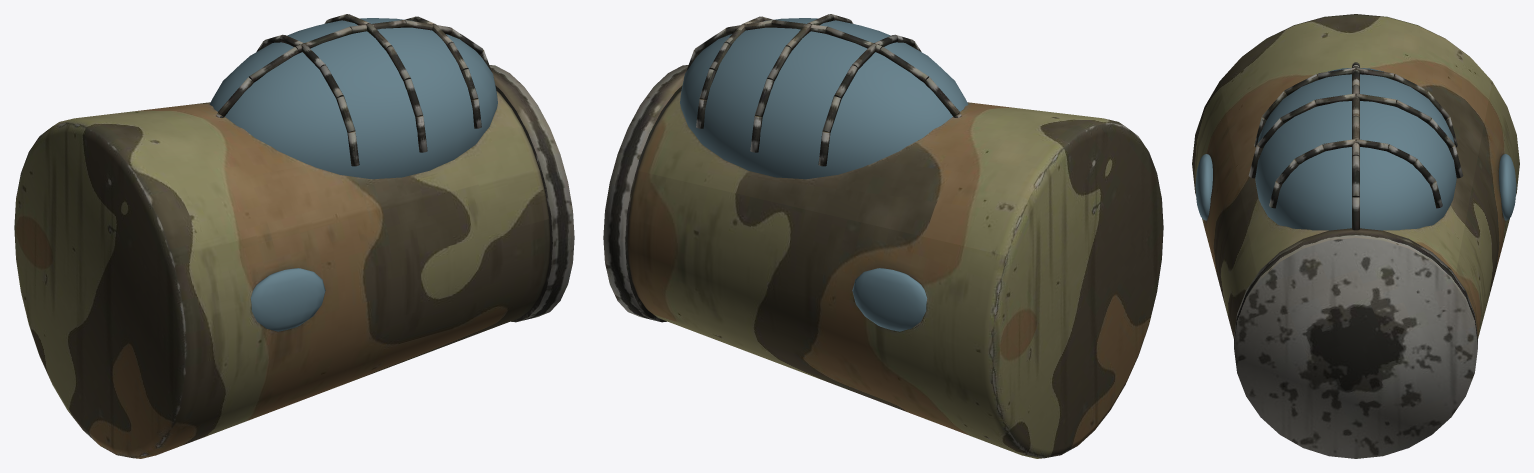
The model's file is turret_kit_tail_cabin_steppe.glb.
3 renders of one model, left to right at view 1: azimuth 30°, elevation 25°; view 2: azimuth 150°, elevation 25°; view 3: azimuth 270°, elevation 25°, orthographic. The views are drawn at different scales.
Parts seen in each view (by area): view 1: turret_tail_cabin; view 2: turret_tail_cabin; view 3: turret_tail_cabin.
Boxes of the visible parts, box(x1,y1,x2,y2) form: turret_tail_cabin: box(14, 14, 574, 458); turret_tail_cabin: box(603, 14, 1163, 458); turret_tail_cabin: box(1192, 14, 1519, 458).
Size of the model in its own units: 1.14 by 0.9506 by 0.8335.
Materials: 2 (1 with a texture image).
